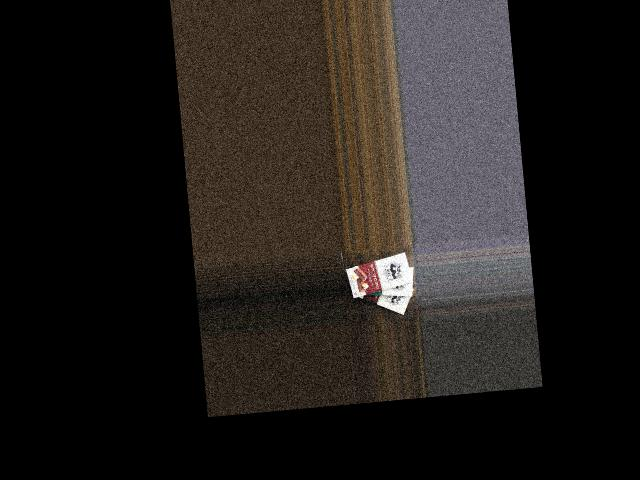chocolate: (347, 272, 417, 320)
